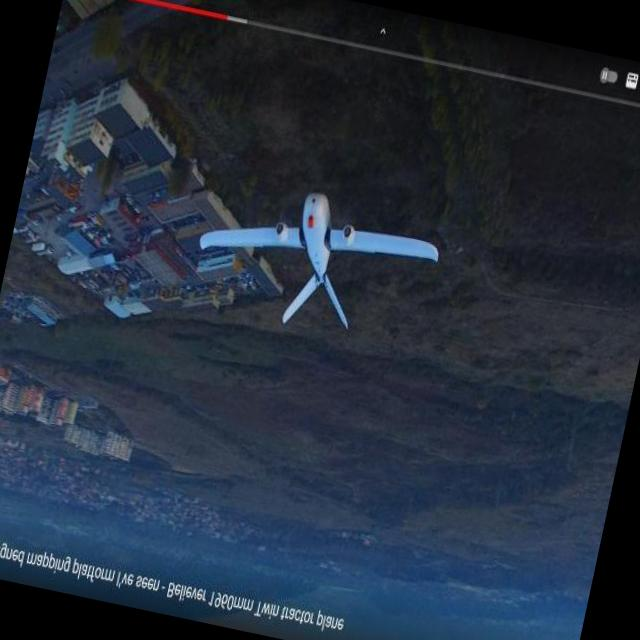UAV: (180, 153, 437, 364)
